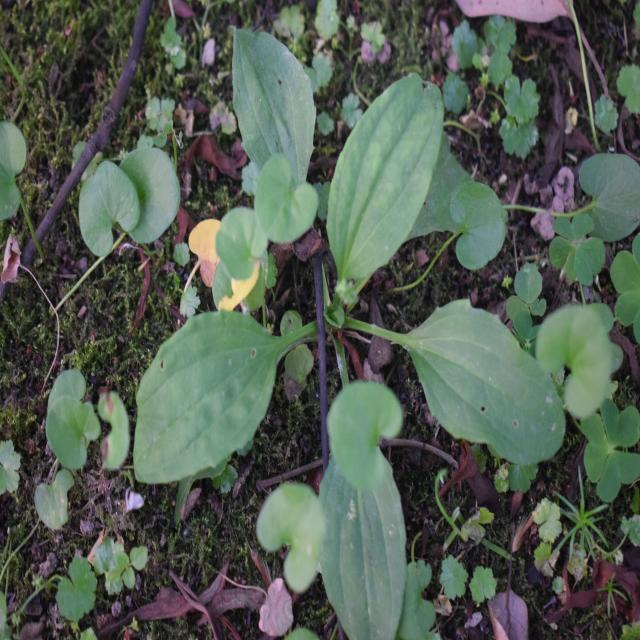plantain: (137, 60, 539, 597)
